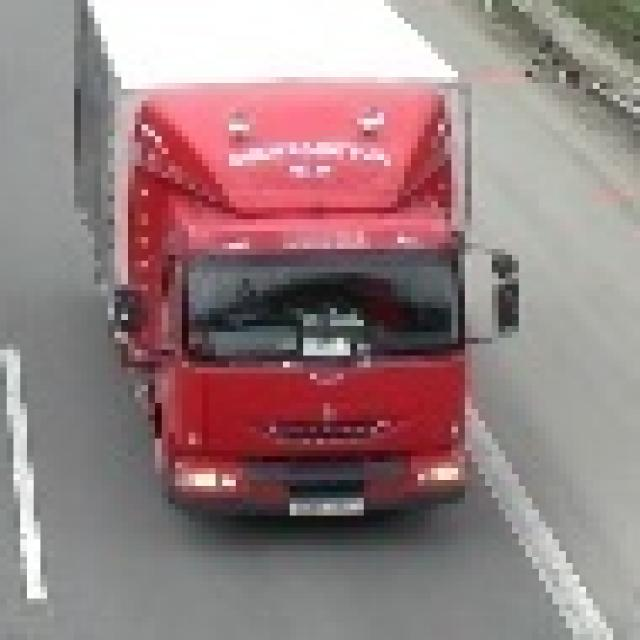truck: (67, 0, 511, 521)
